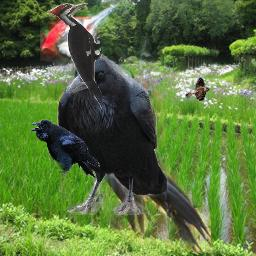Crow: (56, 54, 169, 215), (30, 119, 100, 179)
Swallow: (185, 77, 211, 101)
Woodpecker: (40, 2, 211, 253), (47, 3, 102, 110)
